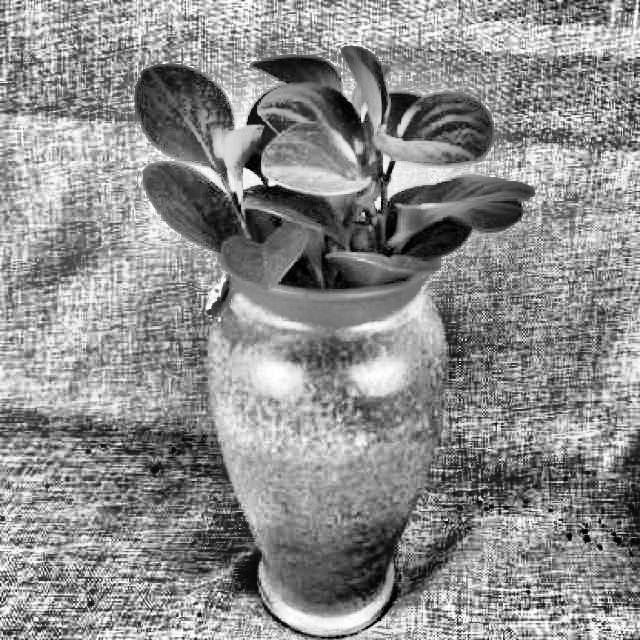plants: (150, 53, 536, 632)
